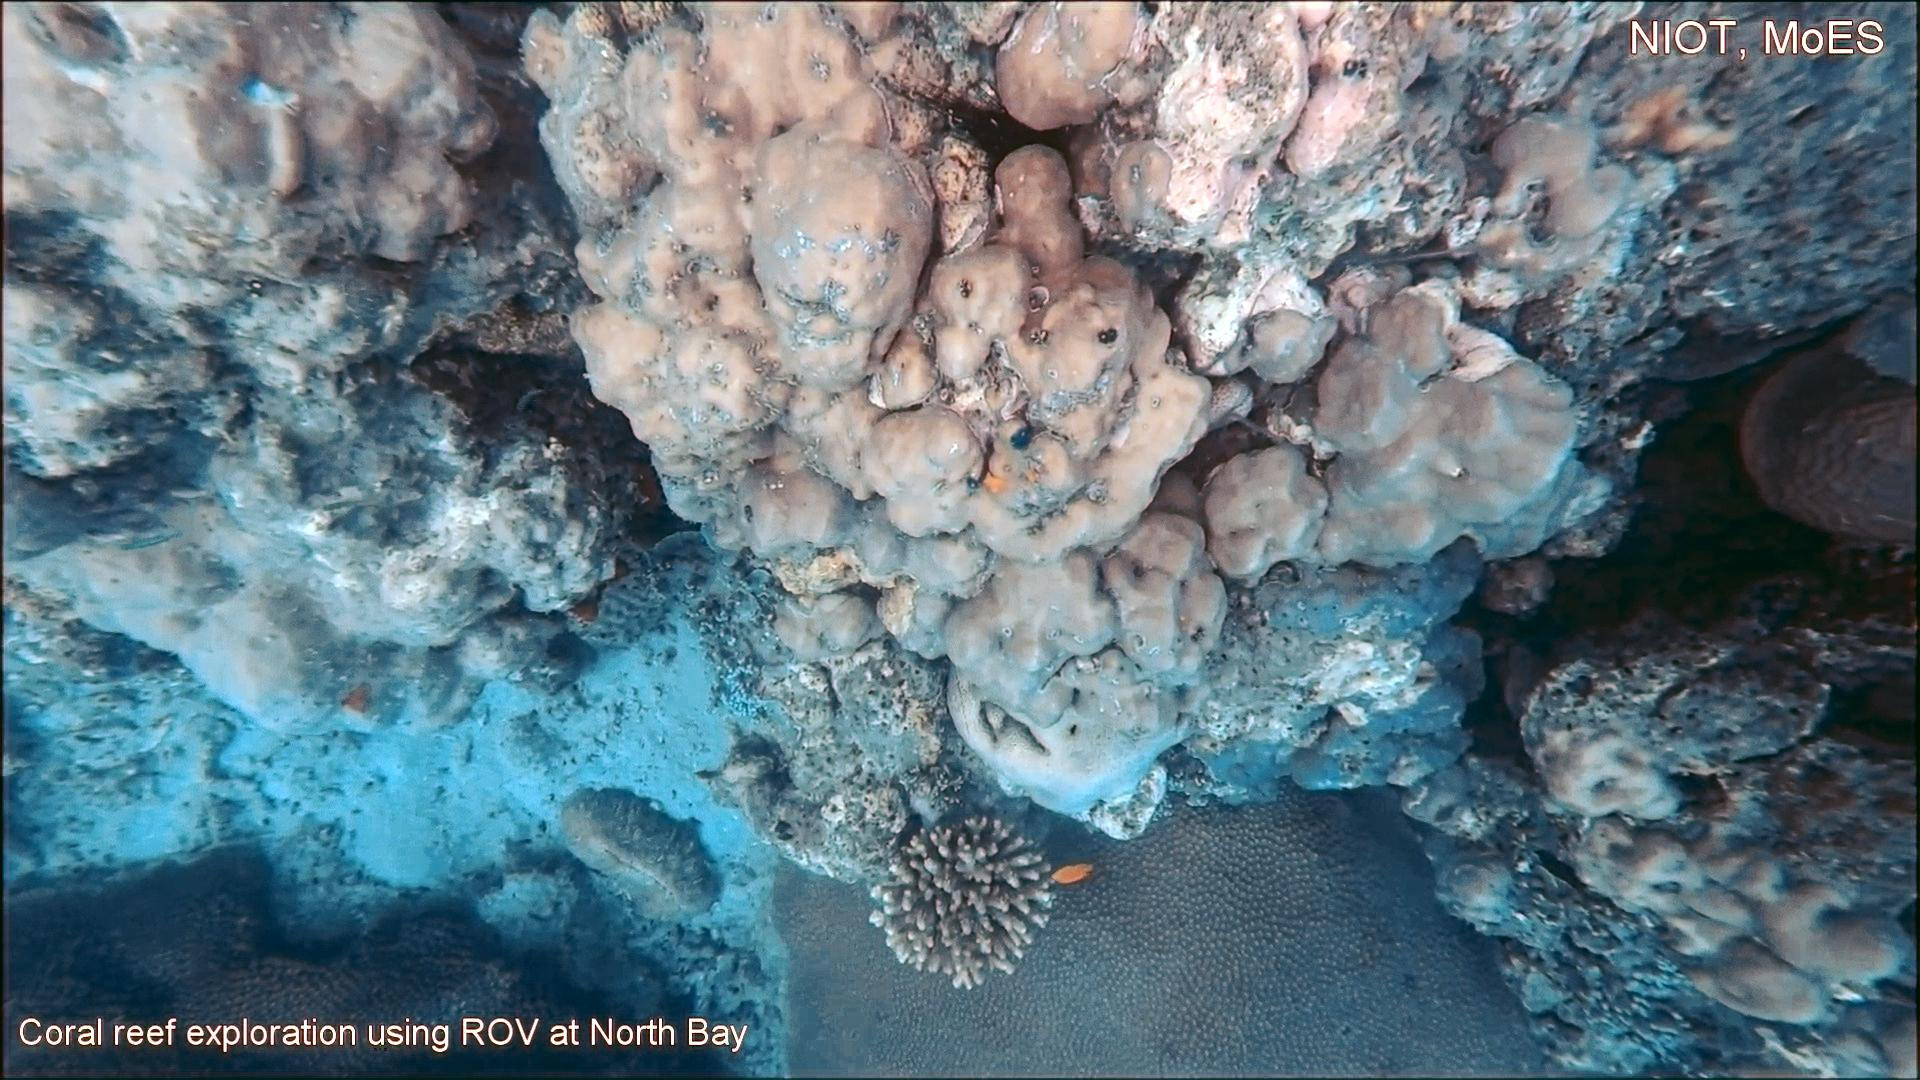Meandrina meandrites: (1734, 336, 1920, 551)
